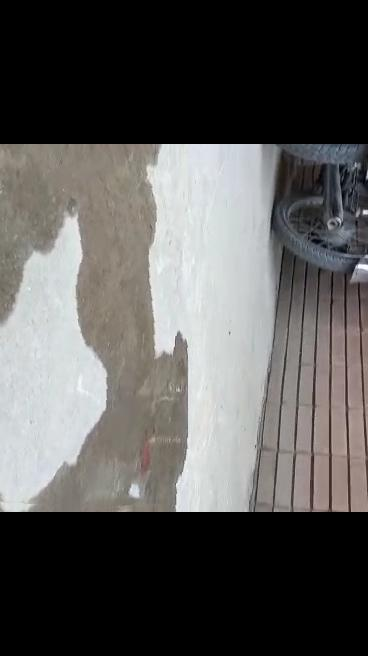water accumulation: (0, 144, 186, 512)
